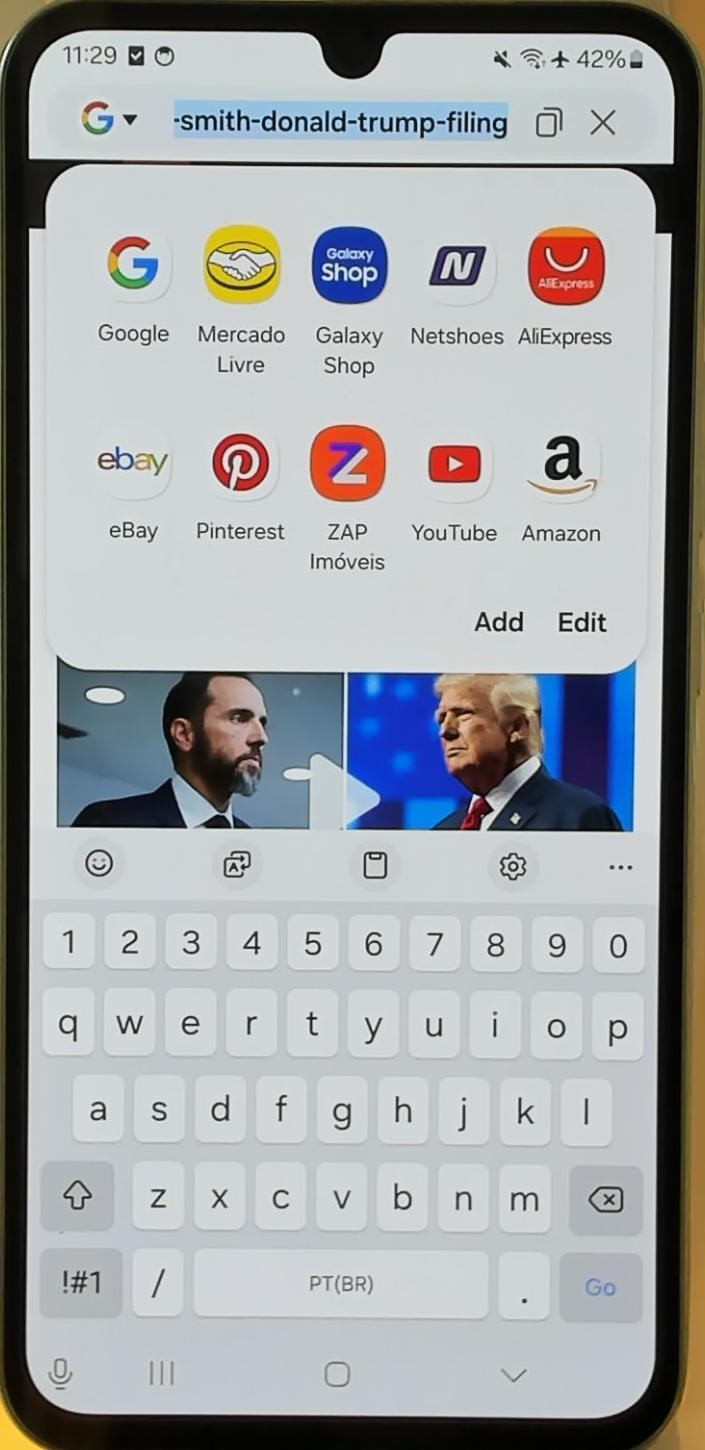CommunBotton: (195, 218, 288, 377), (514, 222, 615, 350), (309, 222, 389, 382), (307, 422, 389, 572), (193, 426, 287, 541), (86, 428, 178, 545), (409, 428, 501, 545), (93, 222, 176, 347), (411, 239, 505, 347), (521, 428, 604, 543), (70, 86, 143, 142), (71, 828, 128, 894), (342, 835, 402, 890), (482, 837, 542, 891), (210, 838, 266, 894), (552, 602, 611, 636), (527, 98, 568, 144), (581, 97, 620, 144), (141, 1353, 186, 1390), (471, 606, 527, 635), (41, 1350, 78, 1393), (494, 1357, 535, 1392), (321, 1355, 359, 1392)
TextKeyboard: (32, 897, 650, 1331)
menu: (585, 839, 647, 896)
